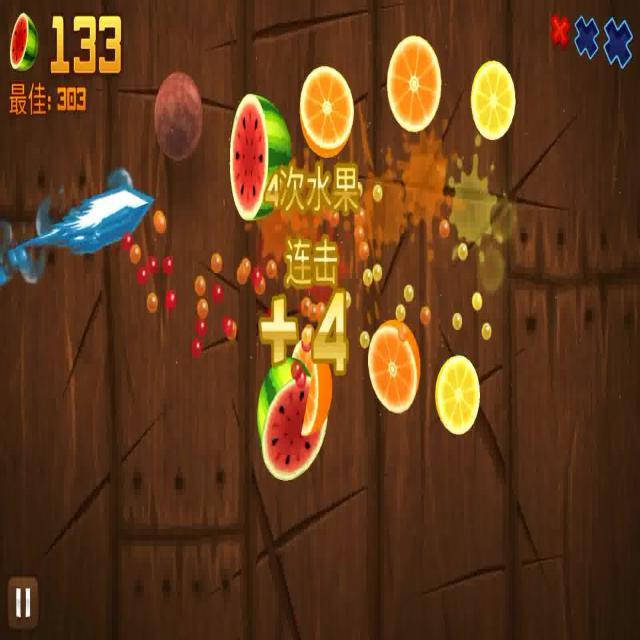fruit: (259, 362, 325, 479), (232, 90, 288, 220), (368, 316, 420, 412), (387, 36, 441, 128), (298, 68, 352, 154), (157, 72, 203, 164), (292, 334, 332, 433), (470, 59, 516, 137), (435, 356, 481, 430)
